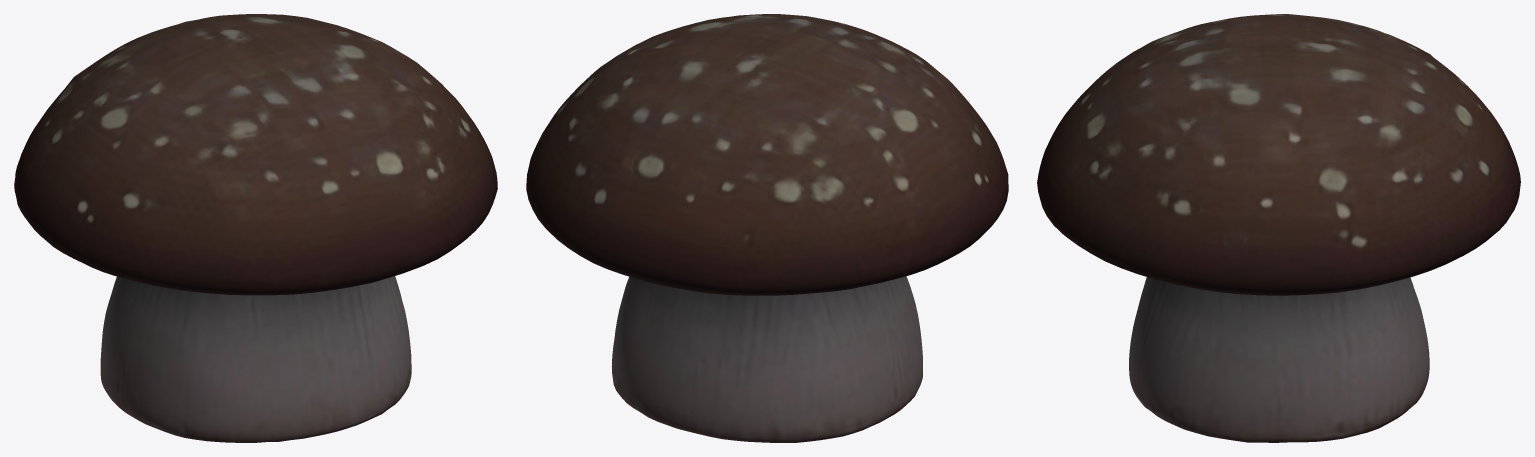
The model's file is 33e852ba4602_stylized_brown_mush.fbx.
3 views of the same model, side by side, from view 1: azimuth 30°, elevation 25°; view 2: azimuth 150°, elevation 25°; view 3: azimuth 270°, elevation 25° (orthographic).
Visible parts, largest first — view 1: mesh; view 2: mesh; view 3: mesh.
Part boxes in pixels (box(x1,y1,x2,y2)): mesh: box(14, 14, 497, 442); mesh: box(526, 14, 1008, 442); mesh: box(1037, 14, 1520, 442).
Bounding box in the file's own units: 99.83 × 76.07 × 99.9.
